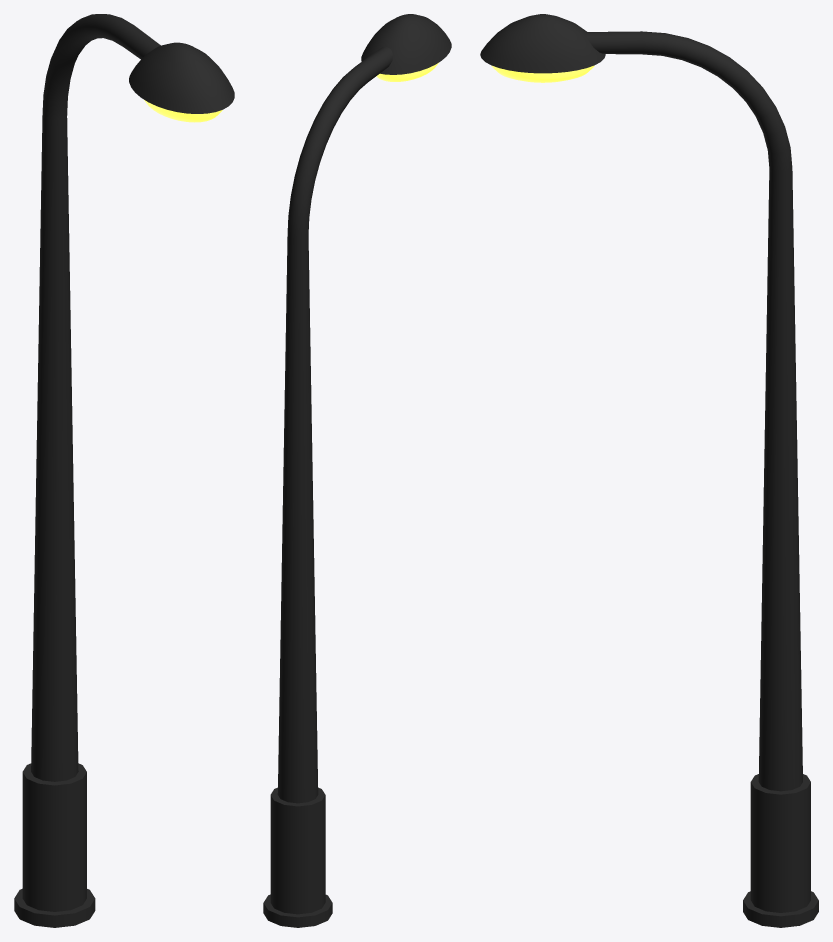
File: FarolaModernaRodonaDe1.fbx
3 renders of one model, left to right at view 1: azimuth 30°, elevation 25°; view 2: azimuth 150°, elevation 25°; view 3: azimuth 270°, elevation 25°, orthographic. The views are drawn at different scales.
Visible parts, largest first — view 1: FarolaModernaRodonaDe1; view 2: FarolaModernaRodonaDe1; view 3: FarolaModernaRodonaDe1.
Boxes of the visible parts, left/top/right/bottom form: FarolaModernaRodonaDe1: left=14, top=14, right=234, bottom=927; FarolaModernaRodonaDe1: left=263, top=14, right=451, bottom=927; FarolaModernaRodonaDe1: left=480, top=14, right=818, bottom=927.
Bounding box in the file's own units: 30.41 × 339 × 116.
